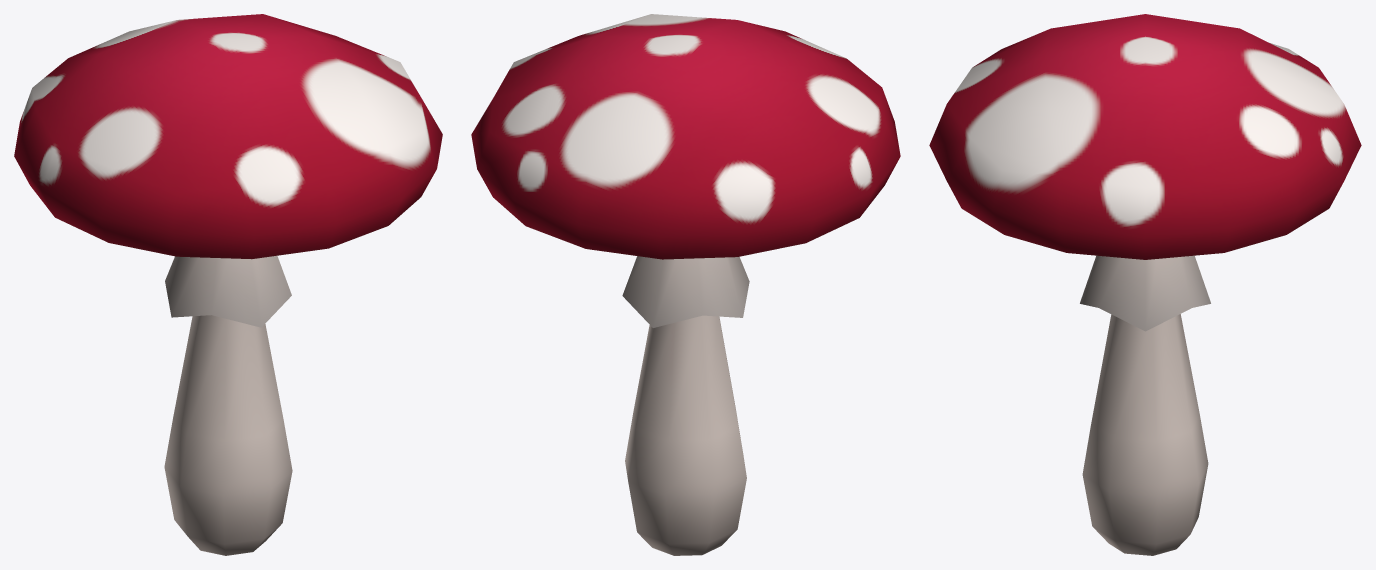
Rendered from Fly_Agaric_Basic.fbx.
3 renders of one model, left to right at view 1: azimuth 30°, elevation 25°; view 2: azimuth 150°, elevation 25°; view 3: azimuth 270°, elevation 25°, orthographic.
Visible parts, largest first — view 1: Fly_Agaric_Basic; view 2: Fly_Agaric_Basic; view 3: Fly_Agaric_Basic.
Boxes of the visible parts, bbox=[...] form: Fly_Agaric_Basic: bbox=[14, 14, 442, 555]; Fly_Agaric_Basic: bbox=[471, 14, 900, 555]; Fly_Agaric_Basic: bbox=[929, 14, 1361, 555].
Size of the model in its own units: 14.57 by 18.6 by 14.57.
